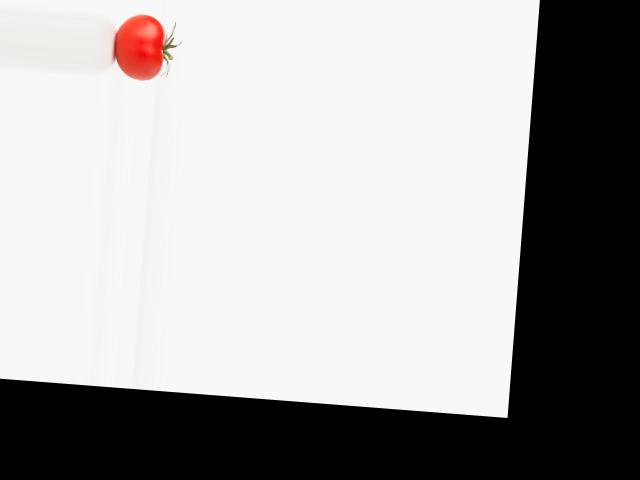tomato: (113, 12, 166, 81)
